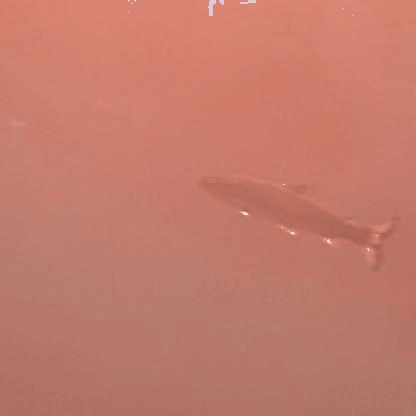salmon: (194, 166, 402, 270)
